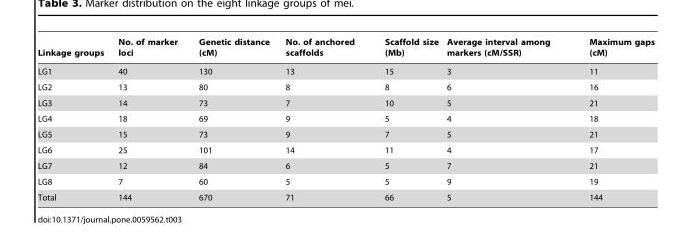table: (36, 37, 654, 201)
table column: (441, 37, 568, 201), (276, 37, 368, 201), (187, 37, 276, 201), (568, 37, 654, 201), (110, 37, 187, 201), (36, 37, 110, 201), (368, 37, 441, 201)
table column header: (36, 37, 654, 61)
table row: (36, 37, 654, 61), (36, 61, 654, 79), (36, 94, 654, 110), (36, 110, 654, 126), (36, 126, 654, 142), (36, 157, 654, 173), (36, 173, 654, 189), (36, 79, 654, 94), (36, 142, 654, 157), (36, 189, 654, 201)
